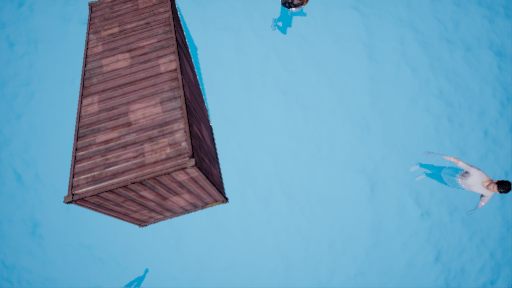person: (409, 154, 512, 215)
